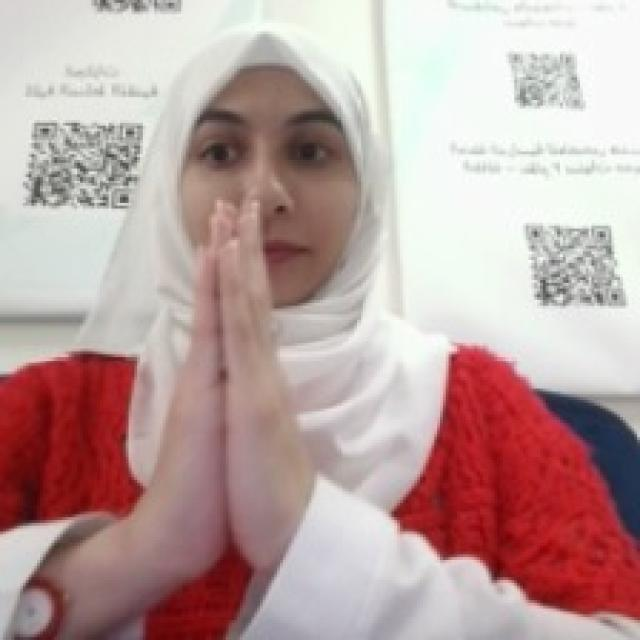sorry: (128, 197, 308, 572)
